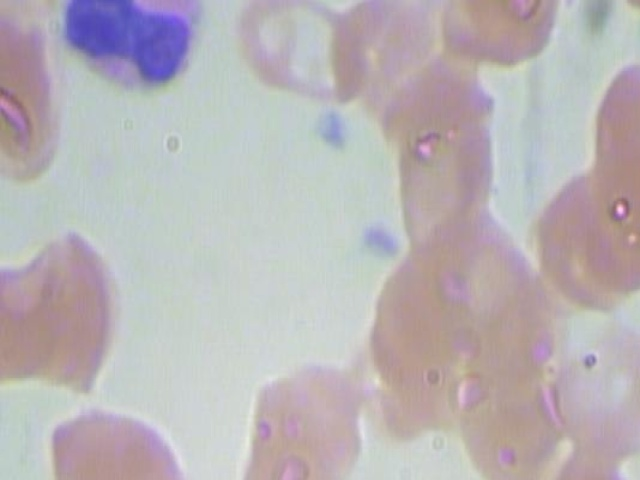Platelets: (301, 99, 358, 160), (346, 210, 403, 271)
RBC: (6, 219, 141, 386), (392, 77, 498, 278), (456, 289, 563, 480), (232, 360, 367, 480), (232, 0, 371, 116), (556, 303, 640, 470), (36, 399, 204, 480), (0, 0, 66, 190), (585, 62, 640, 263), (441, 0, 572, 64), (592, 0, 640, 23)
WBC: (49, 0, 214, 105)
